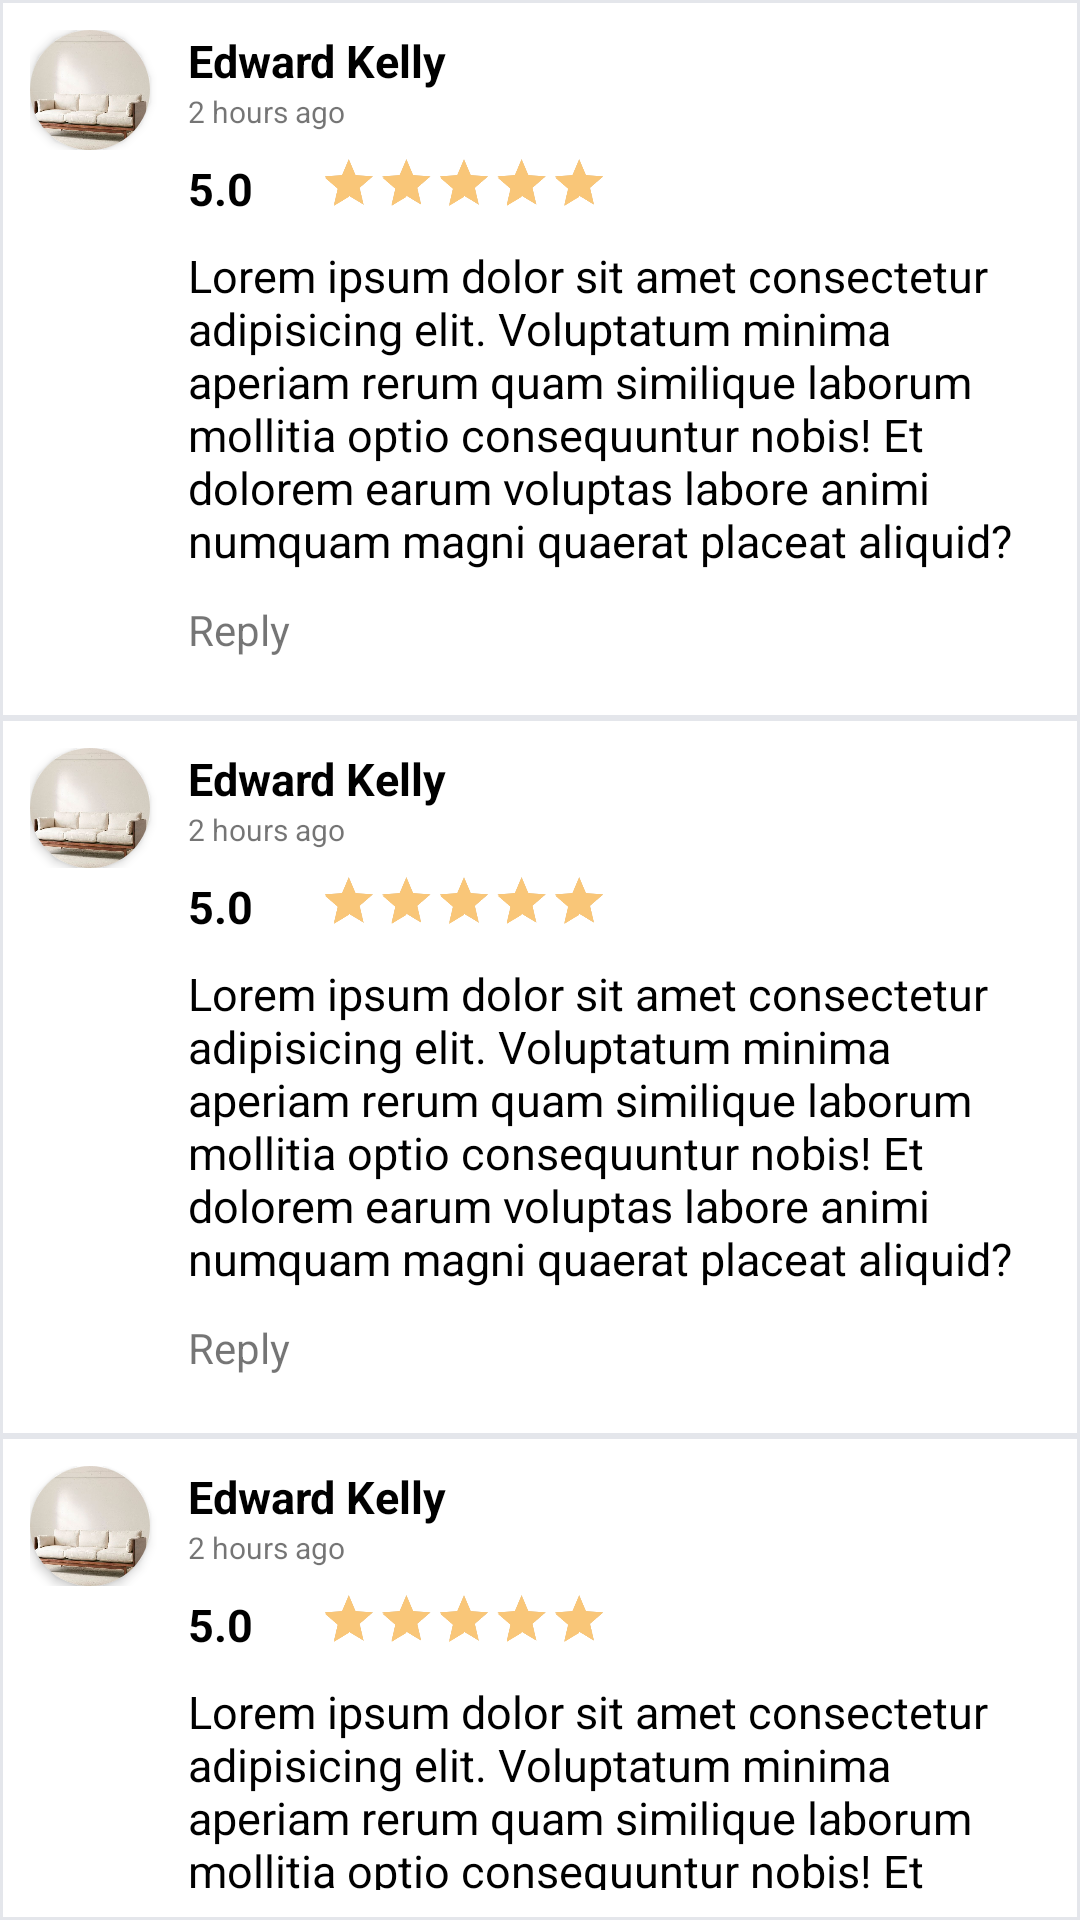

Icons on this 1080px x 1920px Android screen, each with its box as box=[x1, y1, x2, y2]:
sofa: box=[30, 30, 150, 150], box=[30, 748, 150, 868], box=[30, 1466, 150, 1586]
